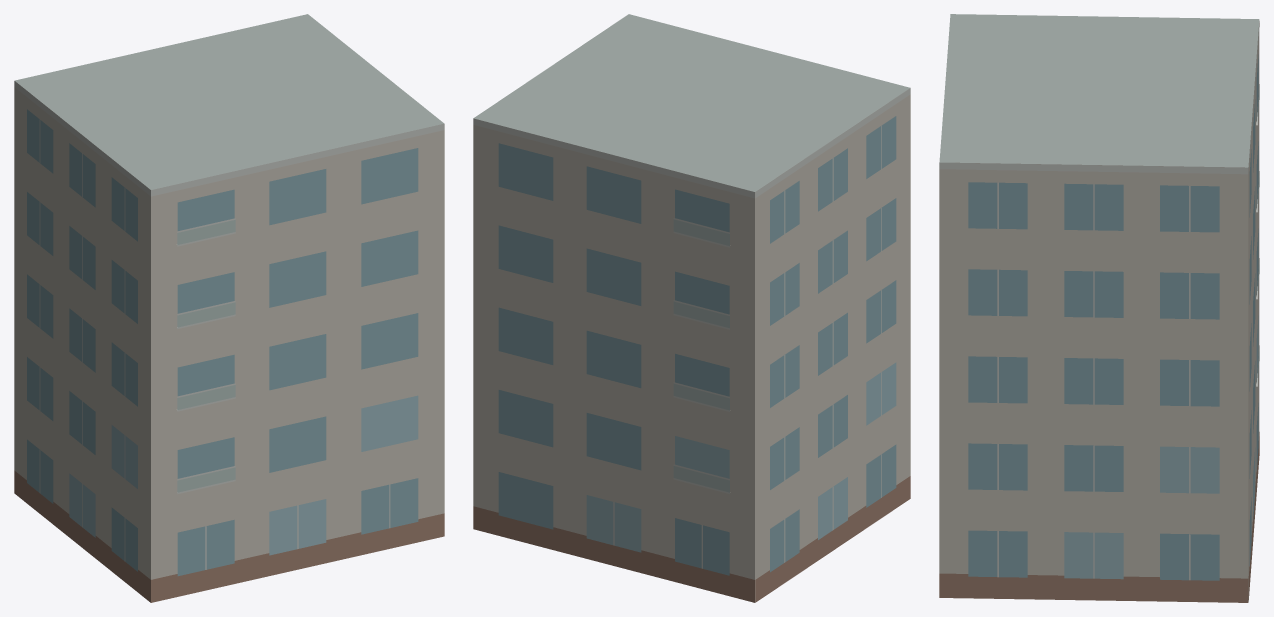
File: survey-upis-32945618.glb
The picture shows the model from 3 angles, left to right: view 1: azimuth 30°, elevation 25°; view 2: azimuth 150°, elevation 25°; view 3: azimuth 270°, elevation 25°; orthographic projection. The views are drawn at different scales.
Parts seen in each view (by area): view 1: survey-upis-32945618.tmp; view 2: survey-upis-32945618.tmp; view 3: survey-upis-32945618.tmp.
Part boxes in pixels (x1,y1,x2,y2): survey-upis-32945618.tmp: (14, 14, 444, 602); survey-upis-32945618.tmp: (473, 14, 910, 602); survey-upis-32945618.tmp: (939, 14, 1259, 602).
Size of the model in its own units: 11.88 by 15.7 by 10.47.
